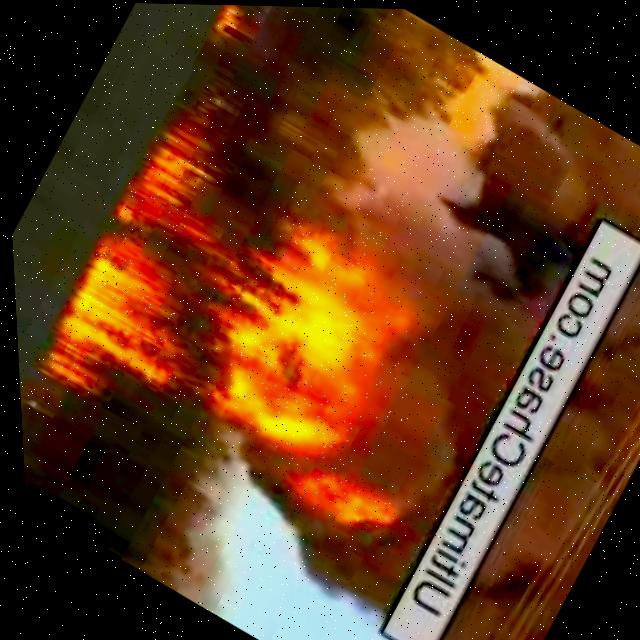Fire: (21, 90, 313, 439), (182, 192, 445, 484), (281, 454, 392, 548), (208, 4, 276, 51)
Smoke: (249, 72, 640, 620), (394, 166, 640, 640)
